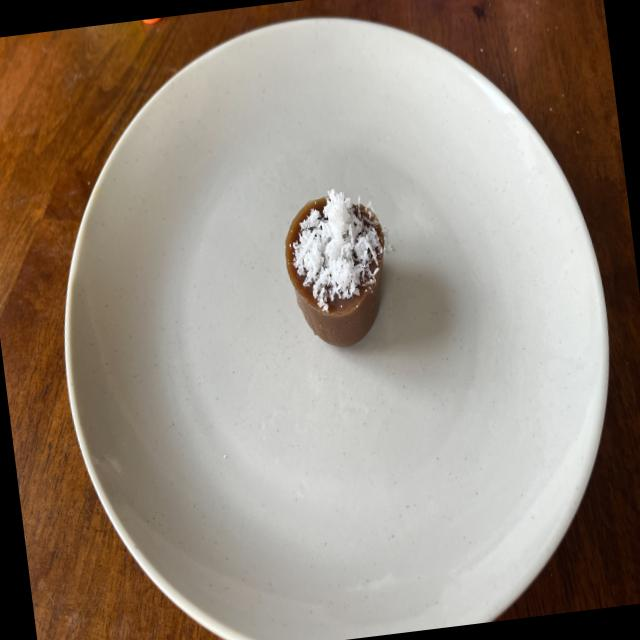Kuih lompang: (285, 188, 384, 346)
